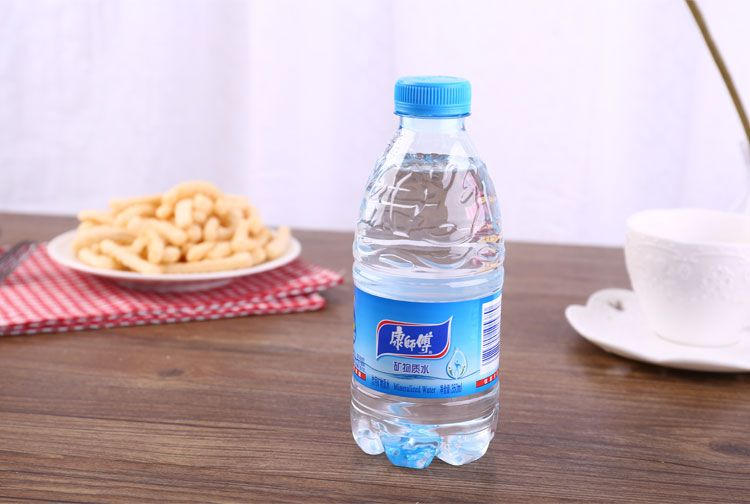amwater: (344, 62, 521, 475)
